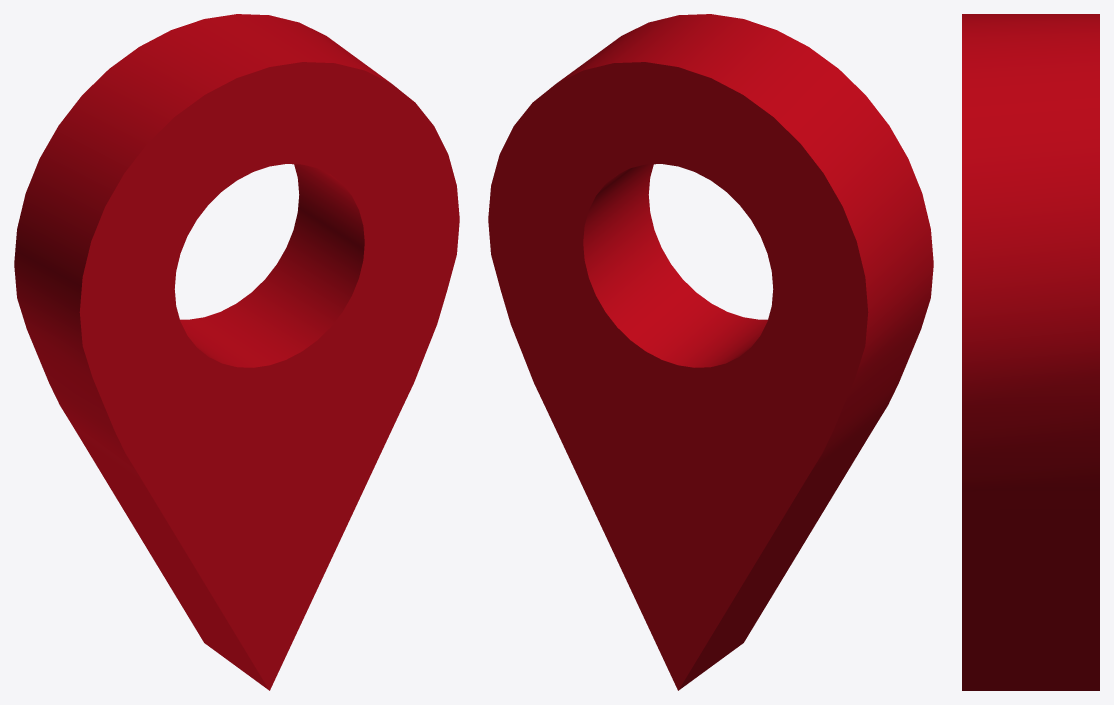
File: Pin.glb
3 views of the same model, side by side, from view 1: azimuth 30°, elevation 25°; view 2: azimuth 150°, elevation 25°; view 3: azimuth 270°, elevation 25° (orthographic). The views are drawn at different scales.
Parts seen in each view (by area): view 1: pin_6; view 2: pin_6; view 3: pin_6.
Part boxes in pixels (x1=…): pin_6: x1=14, y1=14, x2=459, y2=690; pin_6: x1=488, y1=14, x2=933, y2=690; pin_6: x1=962, y1=14, x2=1099, y2=690.
Bounding box in the file's own units: 3.13 × 4.91 × 0.9359.
